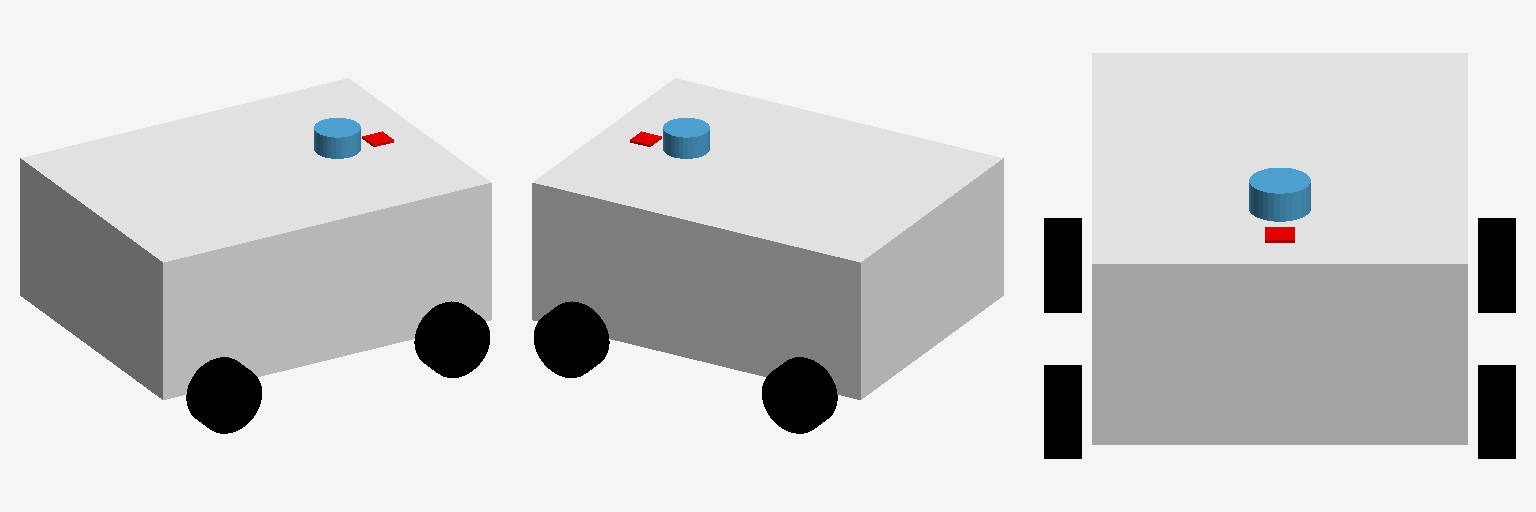
The robot description file, URDF, robot "traktor":
<?xml version="1.0"?>
<robot xmlns:xacro="http://www.ros.org/wiki/xacro" name="traktor">

  <!-- ===================================== -->
  <!--               CHASSIS                 -->
  <!-- ===================================== -->
  <link name="base_link">
    <inertial>
      <origin xyz="0.0 0.0 0.0" rpy="0.0 0.0 0.0"/>
      <mass value="10"/>
      <inertia ixx="0.4" ixy="0" ixz="0" iyy="0.6" iyz="0" izz="0.8"/>
    </inertial>
    <visual>
      <origin xyz="0.0 0.0 0.0" rpy="0.0 0.0 0.0"/>
      <geometry>
        <!-- L:0.806 W:0.607 H:0.323 -->
        <box size="0.806 0.607 0.323"/>
      </geometry>
      <material name="white">
        <color rgba="1.0 1.0 1.0 1.0"/>
      </material>
    </visual>
    <collision>
      <origin xyz="0.0 0.0 0.0" rpy="0.0 0.0 0.0"/>
      <geometry>
        <box size="0.806 0.607 0.323"/>
      </geometry>
    </collision>
  </link>

  <!-- ===================================== -->
  <!--           FRONT RIGHT WHEEL           -->
  <!-- ===================================== -->
  <!-- Steering Knuckle -->
  <link name="sag_on_dif">
    <visual>
      <geometry>
        <cylinder length="0.04" radius="0.02"/>
      </geometry>
      <material name="black"/>
    </visual>
    <collision>
      <geometry>
        <cylinder length="0.04" radius="0.02"/>
      </geometry>
    </collision>
    <inertial>
      <origin xyz="0.0 0.0 0.0" rpy="0.0 0.0 0.0"/>
      <!-- Small mass for stability -->
      <mass value="0.5"/>
      <inertia ixx="0.002" ixy="0" ixz="0" iyy="0.002" iyz="0" izz="0.002"/>
    </inertial>
  </link>

  <joint name="sag_on_dif_joint" type="revolute">
    <parent link="base_link"/>
    <child link="sag_on_dif"/>
    <origin xyz="0.28 -0.35 -0.16" rpy="1.5707 0 0"/>
    <axis xyz="0 1 0"/>
    <limit effort="20" velocity="10" lower="-0.6" upper="0.6"/>
    <!-- [Critical Fix] Added damping and friction to stop oscillation -->
    <dynamics damping="1.0" friction="0.5"/>
  </joint>

  <!-- Wheel Link -->
  <link name="sag_on_teker">
    <inertial>
      <origin xyz="0.0 0.0 0.0" rpy="0.0 0.0 0.0"/>
      <mass value="2.0"/> <!-- Increased wheel mass slightly -->
      <inertia ixx="0.005" ixy="0" ixz="0" iyy="0.005" iyz="0" izz="0.01"/>
    </inertial>
    <visual>
      <geometry>
        <cylinder length="0.06" radius="0.076"/>
      </geometry>
      <material name="black">
        <color rgba="0.0 0.0 0.0 1.0"/>
      </material>
    </visual>
    <collision>
      <geometry>
        <cylinder length="0.06" radius="0.076"/>
      </geometry>
    </collision>
  </link>

  <joint name="sag_on_dif_sag_on_teker" type="continuous">
    <parent link="sag_on_dif"/>
    <child link="sag_on_teker"/>
    <origin xyz="0.0 0.0 0.0" rpy="0 0 0"/>
    <axis xyz="0 0 -1"/>
    <limit effort="50" velocity="100"/>
    <dynamics damping="0.1" friction="0.1"/>
  </joint>


  <!-- ===================================== -->
  <!--           FRONT LEFT WHEEL            -->
  <!-- ===================================== -->
  <link name="sol_on_dif">
    <visual>
      <geometry>
        <cylinder length="0.04" radius="0.02"/>
      </geometry>
      <material name="black"/>
    </visual>
    <collision>
      <geometry>
        <cylinder length="0.04" radius="0.02"/>
      </geometry>
    </collision>
    <inertial>
      <origin xyz="0.0 0.0 0.0" rpy="0.0 0.0 0.0"/>
      <mass value="0.5"/>
      <inertia ixx="0.002" ixy="0" ixz="0" iyy="0.002" iyz="0" izz="0.002"/>
    </inertial>
  </link>

  <joint name="sol_on_dif_joint" type="revolute">
    <parent link="base_link"/>
    <child link="sol_on_dif"/>
    <origin xyz="0.28 0.35 -0.16" rpy="1.5707 0 0"/>
    <axis xyz="0 1 0"/>
    <limit effort="20" velocity="10" lower="-0.6" upper="0.6"/>
    <!-- [Critical Fix] Added damping -->
    <dynamics damping="1.0" friction="0.5"/>
  </joint>

  <link name="sol_on_teker">
    <inertial>
      <origin xyz="0.0 0.0 0.0" rpy="0.0 0.0 0.0"/>
      <mass value="2.0"/>
      <inertia ixx="0.005" ixy="0" ixz="0" iyy="0.005" iyz="0" izz="0.01"/>
    </inertial>
    <visual>
      <geometry>
        <cylinder length="0.06" radius="0.076"/>
      </geometry>
      <material name="black">
        <color rgba="0.0 0.0 0.0 1.0"/>
      </material>
    </visual>
    <collision>
      <geometry>
        <cylinder length="0.06" radius="0.076"/>
      </geometry>
    </collision>
  </link>

  <joint name="sol_on_dif_sol_on_teker" type="continuous">
    <parent link="sol_on_dif"/>
    <child link="sol_on_teker"/>
    <origin xyz="0.0 0.0 0.0" rpy="0 0 0"/>
    <axis xyz="0 0 -1"/>
    <limit effort="50" velocity="100"/>
    <dynamics damping="0.1" friction="0.1"/>
  </joint>


  <!-- ===================================== -->
  <!--           REAR RIGHT WHEEL            -->
  <!-- ===================================== -->
  <link name="sag_arka">
    <inertial>
      <origin xyz="0.0 0.0 0.0" rpy="0.0 0.0 0.0"/>
      <mass value="2.0"/>
      <inertia ixx="0.005" ixy="0" ixz="0" iyy="0.005" iyz="0" izz="0.01"/>
    </inertial>
    <visual>
      <geometry>
        <cylinder length="0.06" radius="0.076"/>
      </geometry>
      <material name="black">
         <color rgba="0.0 0.0 0.0 1.0"/>
      </material>
    </visual>
    <collision>
      <geometry>
        <cylinder length="0.06" radius="0.076"/>
      </geometry>
    </collision>
  </link>

  <joint name="sag_arka_dif_joint" type="continuous">
    <parent link="base_link"/>
    <child link="sag_arka"/>
    <origin xyz="-0.28 -0.35 -0.16" rpy="1.5707 0 0"/>
    <axis xyz="0 0 -1"/>
    <limit effort="50" velocity="100"/>
    <dynamics damping="0.1" friction="0.1"/>
  </joint>


  <!-- ===================================== -->
  <!--            REAR LEFT WHEEL            -->
  <!-- ===================================== -->
  <link name="sol_arka">
    <inertial>
      <origin xyz="0.0 0.0 0.0" rpy="0.0 0.0 0.0"/>
      <mass value="2.0"/>
      <inertia ixx="0.005" ixy="0" ixz="0" iyy="0.005" iyz="0" izz="0.01"/>
    </inertial>
    <visual>
      <geometry>
        <cylinder length="0.06" radius="0.076"/>
      </geometry>
      <material name="black">
        <color rgba="0.0 0.0 0.0 1.0"/>
      </material>
    </visual>
    <collision>
      <geometry>
        <cylinder length="0.06" radius="0.076"/>
      </geometry>
    </collision>
  </link>

  <joint name="sol_arka_dif_joint" type="continuous">
    <parent link="base_link"/>
    <child link="sol_arka"/>
    <origin xyz="-0.28 0.35 -0.16" rpy="1.5707 0 0"/>
    <axis xyz="0 0 -1"/>
    <limit effort="50" velocity="100"/>
    <dynamics damping="0.1" friction="0.1"/>
  </joint>


  <!-- ===================================== -->
  <!--             SENSORS                   -->
  <!-- ===================================== -->

  <!-- GPS -->
  <link name="gps_link">
    <inertial>
      <origin xyz="0.0 0.0 0.0" rpy="0.0 0.0 0.0"/>
      <mass value="0.05"/>
      <inertia ixx="0.0001" ixy="0" ixz="0" iyy="0.0001" iyz="0" izz="0.0001"/>
    </inertial>
    <visual>
      <geometry> <box size="0.05 0.05 0.05"/> </geometry>
      <material name="black"/>
    </visual>
    <collision>
      <geometry> <box size="0.05 0.05 0.05"/> </geometry>
    </collision>
  </link>
  <joint name="gps_joint" type="fixed">
    <parent link="base_link"/>
    <child link="gps_link"/>
    <origin xyz="0.0 0.0 0.0" rpy="0.0 0.0 0.0"/>
  </joint>
  
  <gazebo reference="gps_link">
    <sensor name="gps_sensor" type="gps">
      <always_on>true</always_on>
      <update_rate>1.0</update_rate>
      <plugin name="gps_controller" filename="libgazebo_ros_gps_sensor.so">
        <ros>
          <remapping>gps_controller/out:=/gps/fix</remapping>
        </ros>
        <frame_name>gps_link</frame_name>
        <offset>0 0 0</offset>
        <drift>0.001 0.001 0.001</drift>
        <gaussianNoise>0.05 0.05 0.05</gaussianNoise>
        <velocityDrift>0.001 0.001 0.001</velocityDrift>
        <velocityGaussianNoise>0.5 0.5 0.5</velocityGaussianNoise>
      </plugin>
    </sensor>
    <material>Gazebo/Black</material>
  </gazebo>


  <!-- IMU -->
  <link name="imu_link">
    <inertial>
      <origin xyz="0.0 0.0 0.0" rpy="0.0 0.0 0.0"/>
      <mass value="0.01"/>
      <inertia ixx="0.0001" ixy="0" ixz="0" iyy="0.0001" iyz="0" izz="0.0001"/>
    </inertial>
    <visual>
      <geometry> <box size="0.05 0.05 0.01"/> </geometry>
      <material name="red"> <color rgba="1 0 0 1"/> </material>
    </visual>
    <collision>
      <geometry> <box size="0.05 0.05 0.01"/> </geometry>
    </collision>
  </link>
  <joint name="imu_joint" type="fixed">
    <parent link="base_link"/>
    <child link="imu_link"/>
    <origin xyz="0.3 0.0 0.162" rpy="0.0 0.0 0.0"/>
  </joint>

  <gazebo reference="imu_link">
    <sensor name="imu_sensor" type="imu">
      <plugin filename="libgazebo_ros_imu_sensor.so" name="imu_plugin">
        <ros><remapping>~/out:=/imu</remapping></ros>
        <initial_orientation_as_reference>false</initial_orientation_as_reference>
      </plugin>
      <always_on>true</always_on>
      <update_rate>100</update_rate>
      <visualize>true</visualize>
    </sensor>
    <material>Gazebo/Red</material>
  </gazebo>


  <!-- LIDAR -->
  <link name="hokuyo_link">
    <collision>
      <origin xyz="0 0 0" rpy="0 0 0"/>
      <geometry><cylinder radius="0.05" length="0.05"/></geometry>
    </collision>
    <visual>
      <origin xyz="0 0 0" rpy="0 0 0"/>
      <geometry><cylinder radius="0.05" length="0.05"/></geometry>
    </visual>
    <inertial>
      <mass value="0.05" />
      <origin xyz="0 0 0" rpy="0 0 0"/>
      <inertia ixx="0.001" ixy="0" ixz="0" iyy="0.001" iyz="0" izz="0.001" />
    </inertial>
  </link>

  <joint name="hokuyo_joint" type="fixed">
    <axis xyz="0 1 0" />
    <origin xyz="0.2 0 0.19" rpy="0 0 0"/>
    <parent link="base_link"/>
    <child link="hokuyo_link"/>
  </joint>

  <gazebo reference="hokuyo_link">
    <sensor name="hokuyo_link" type="ray">
      <pose>0 0 0 0 0 0</pose>
      <always_on>true</always_on>
      <visualize>true</visualize>
      <update_rate>10</update_rate>
      <ray>
        <scan>
          <horizontal>
            <samples>360</samples>
            <resolution>1.00000</resolution>
            <min_angle>0.000000</min_angle>
            <max_angle>6.280000</max_angle>
          </horizontal>
        </scan>
        <range>
          <min>0.120000</min>
          <max>6.0</max>
          <resolution>0.015000</resolution>
        </range>
        <noise>
          <type>gaussian</type>
          <mean>0.0</mean>
          <stddev>0.01</stddev>
        </noise>
      </ray>
      <plugin name="scan" filename="libgazebo_ros_ray_sensor.so">
        <ros><remapping>~/out:=scan</remapping></ros>
        <output_type>sensor_msgs/LaserScan</output_type>
        <frame_name>hokuyo_link</frame_name>
      </plugin>
    </sensor>
    <material>Gazebo/Red</material>
  </gazebo>


  <!-- ===================================== -->
  <!--           ACKERMANN PLUGIN            -->
  <!-- ===================================== -->
  <gazebo>
    <plugin name="gazebo_ros_ackermann_drive" filename="libgazebo_ros_ackermann_drive.so">
      <ros>
        <remapping>cmd_vel:=cmd_vel</remapping>
        <remapping>odom:=odom</remapping>
        <remapping>distance:=distance_demo</remapping>
      </ros>

      <update_rate>100.0</update_rate>

      <!-- wheels -->
      <front_left_joint>sol_on_dif_sol_on_teker</front_left_joint>
      <front_right_joint>sag_on_dif_sag_on_teker</front_right_joint>
      <rear_left_joint>sol_arka_dif_joint</rear_left_joint>
      <rear_right_joint>sag_arka_dif_joint</rear_right_joint>
      <left_steering_joint>sol_on_dif_joint</left_steering_joint>
      <right_steering_joint>sag_on_dif_joint</right_steering_joint>

      <max_steer>0.6</max_steer>
      <max_steering_angle>7.85</max_steering_angle>
      <max_speed>20</max_speed>

      <!-- Reduced PID parameters for smaller vehicle -->
      <left_steering_pid_gain>20 0 0.1</left_steering_pid_gain>
      <left_steering_i_range>0 0</left_steering_i_range>
      <right_steering_pid_gain>20 0 0.1</right_steering_pid_gain>
      <right_steering_i_range>0 0</right_steering_i_range>

      <linear_velocity_pid_gain>20 0 0.1</linear_velocity_pid_gain>
      <linear_velocity_i_range>0 0</linear_velocity_i_range>

      <!-- output -->
      <publish_odom>true</publish_odom>
      <publish_odom_tf>true</publish_odom_tf>
      <publish_wheel_tf>true</publish_wheel_tf>
      <publish_distance>true</publish_distance>

      <odometry_frame>odom</odometry_frame>
      <robot_base_frame>base_link</robot_base_frame>

    </plugin>
  </gazebo>


  <!-- ===================================== -->
  <!--             GAZEBO COLORS             -->
  <!-- ===================================== -->
  <gazebo reference="base_link">
    <material>Gazebo/White</material>
  </gazebo>
  <gazebo reference="sag_on_dif">
    <material>Gazebo/Black</material>
  </gazebo>
  <gazebo reference="sol_on_dif">
    <material>Gazebo/Black</material>
  </gazebo>
  <gazebo reference="sag_on_teker">
    <material>Gazebo/Black</material>
  </gazebo>
  <gazebo reference="sol_on_teker">
    <material>Gazebo/Black</material>
  </gazebo>
  <gazebo reference="sol_arka">
    <material>Gazebo/Black</material>
  </gazebo>
  <gazebo reference="sag_arka">
    <material>Gazebo/Black</material>
  </gazebo>

</robot>

--- Render facts (derived) ---
3 views of the same robot in one strip: view 1: azimuth 30°, elevation 25°; view 2: azimuth 150°, elevation 25°; view 3: azimuth 270°, elevation 25° (orthographic).
Robot: traktor — 10 links, 9 joints (2 revolute, 4 continuous, 3 fixed); root link base_link; default pose: all joints at 0.
Visible links, largest first — view 1: base_link, sag_arka, sag_on_teker, hokuyo_link; view 2: base_link, sol_arka, sol_on_teker, hokuyo_link; view 3: base_link, sag_arka, sol_arka, sag_on_teker, sol_on_teker, hokuyo_link.
Boxes of the visible links, x1,y1,x2,y2 form: base_link: [20, 78, 491, 399]; sag_arka: [186, 357, 261, 433]; sag_on_teker: [414, 301, 489, 377]; hokuyo_link: [314, 118, 360, 158]; base_link: [532, 78, 1003, 399]; sol_arka: [762, 357, 837, 433]; sol_on_teker: [534, 301, 609, 377]; hokuyo_link: [663, 118, 709, 158]; base_link: [1092, 53, 1467, 444]; sag_arka: [1044, 218, 1081, 312]; sol_arka: [1478, 218, 1515, 312]; sag_on_teker: [1044, 365, 1081, 458]; sol_on_teker: [1478, 365, 1515, 458]; hokuyo_link: [1249, 168, 1310, 221].
Bounding box of the posed robot: 0.806 × 0.76 × 0.451 m (x, y, z).
Geometry: primitives only (box / cylinder / sphere), no mesh files.
